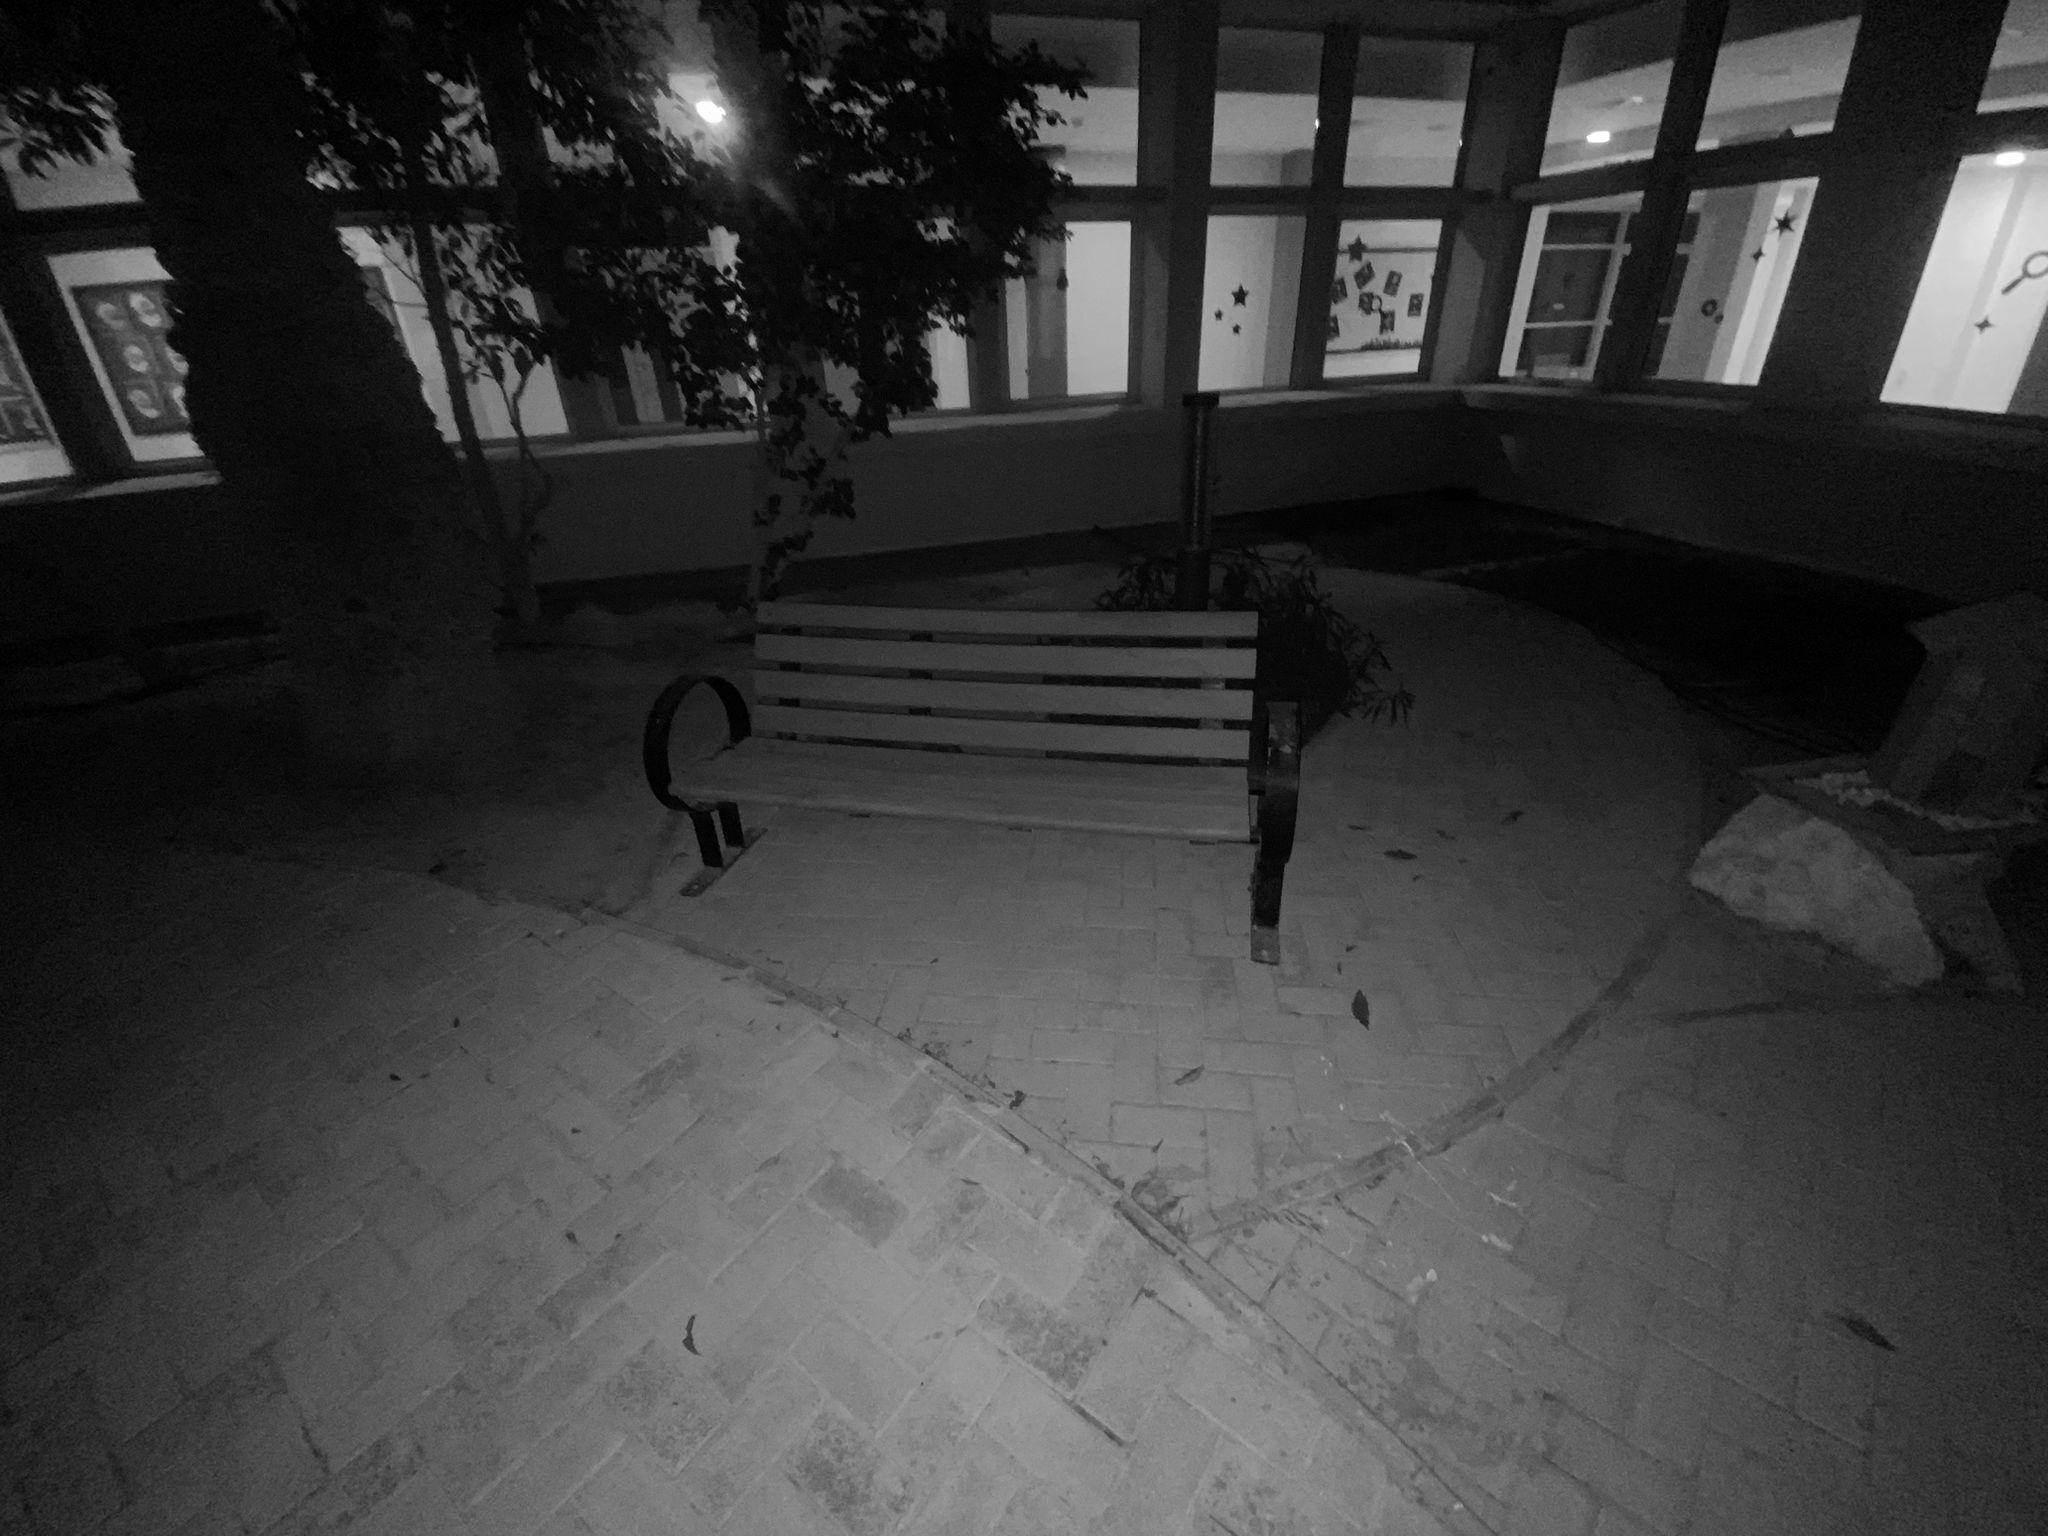Chair: (643, 602, 1301, 962)
Wall: (1214, 387, 2046, 600), (792, 407, 1184, 591), (0, 473, 268, 639), (537, 436, 753, 592)
